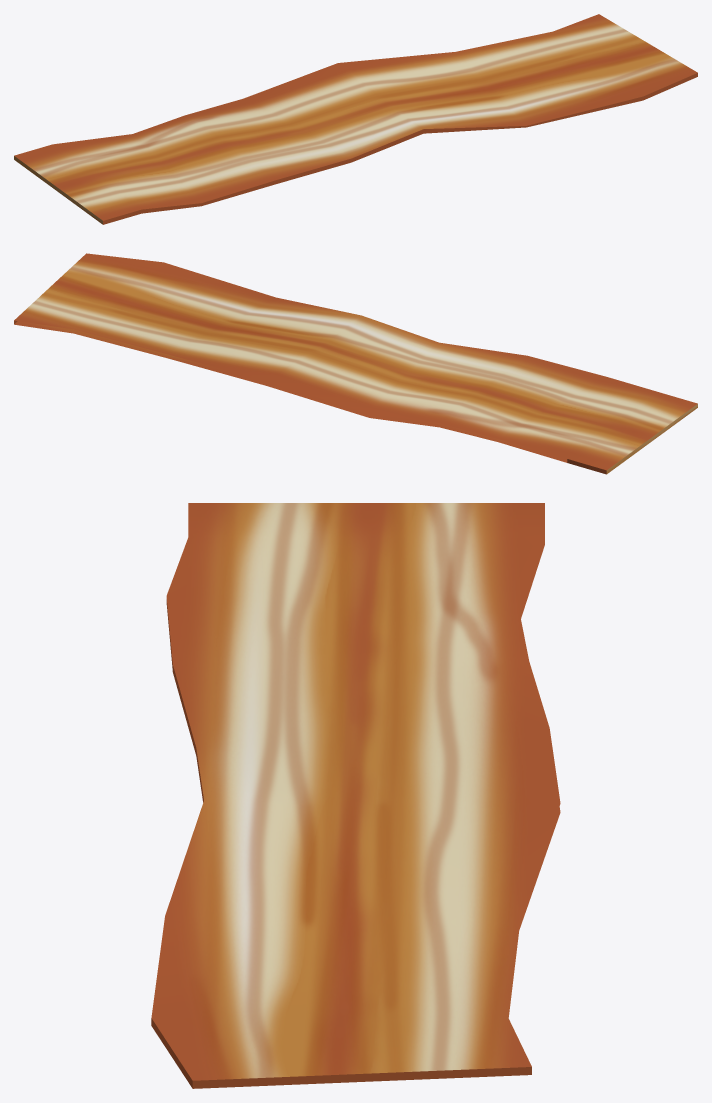
The model's file is BaconV2.fbx.
3 views of the same model, one above another, from view 1: azimuth 30°, elevation 25°; view 2: azimuth 150°, elevation 25°; view 3: azimuth 270°, elevation 25° (orthographic). The views are drawn at different scales.
Parts seen in each view (by area): view 1: m_Bacon; view 2: m_Bacon; view 3: m_Bacon.
Part boxes in pixels (<box>): m_Bacon: <box>14,14,697,224</box>; m_Bacon: <box>14,253,697,474</box>; m_Bacon: <box>151,503,560,1088</box>.
Bounding box in the file's own units: 15.44 × 0.437 × 4.59.
1 material, 1 textured.
